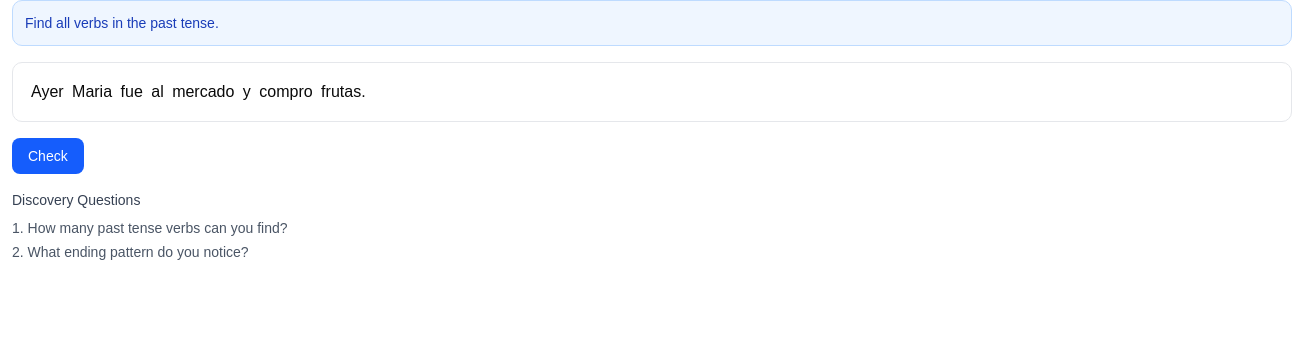
Test: NoticingTaskRenderer.Student › shows feedback after checking answers
The image size is (1292, 339).
Click the button "Check": (48, 156) [12,138,84,174]
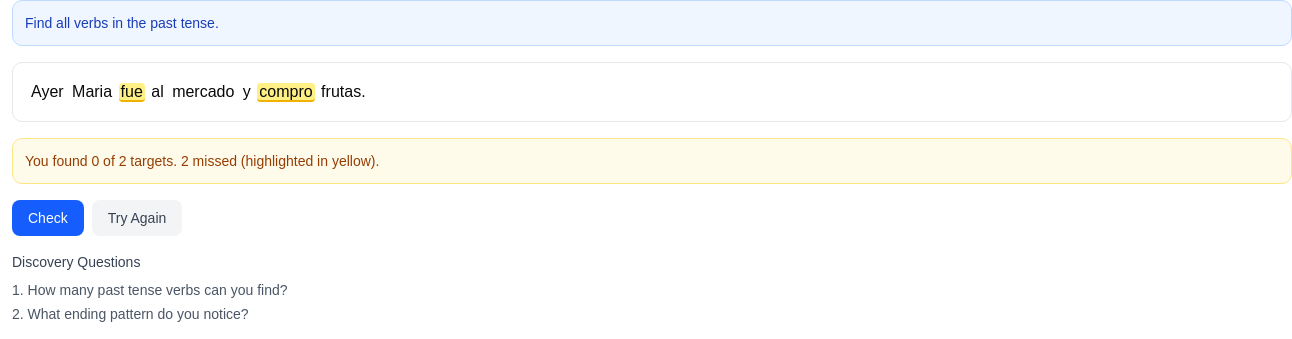
Expected: the text "You found 0 of 2 targets. 2 missed (highlighted in yellow)." is shown, [12,138,1291,184]
